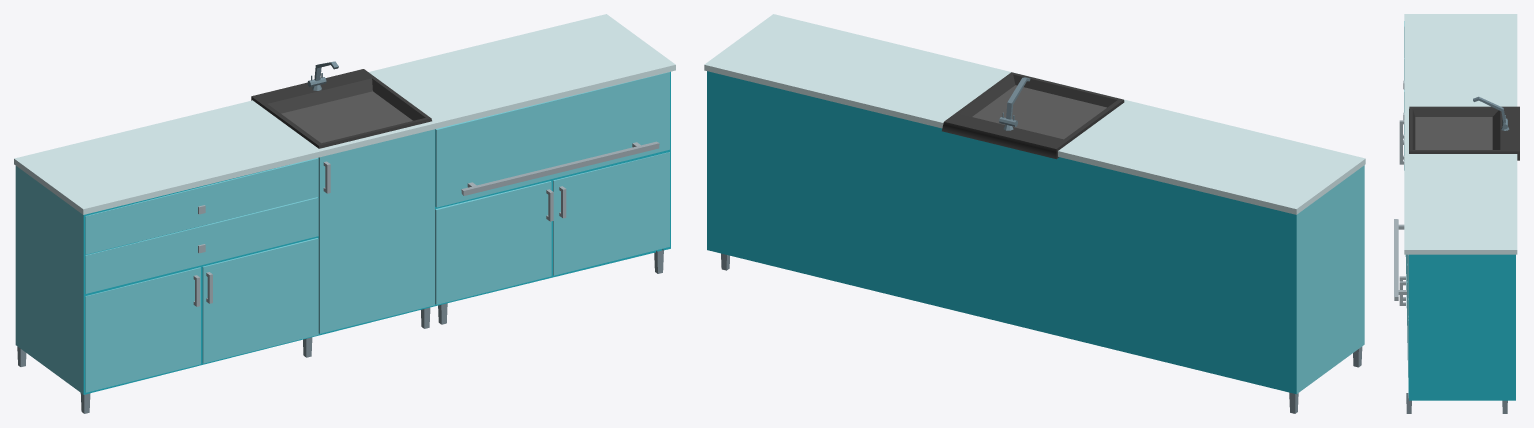
File: kitchen_item_049.fbx
3 views of the same model, side by side, from view 1: azimuth 30°, elevation 25°; view 2: azimuth 150°, elevation 25°; view 3: azimuth 270°, elevation 25° (orthographic). The views are drawn at different scales.
Visible parts, largest first — view 1: kitchen_item_049; view 2: kitchen_item_049; view 3: kitchen_item_049.
Boxes of the visible parts, bbox=[...] form: kitchen_item_049: bbox=[14, 14, 675, 413]; kitchen_item_049: bbox=[704, 14, 1365, 413]; kitchen_item_049: bbox=[1394, 14, 1519, 413].
Bounding box in the file's own units: 303 × 68.1 × 121.
